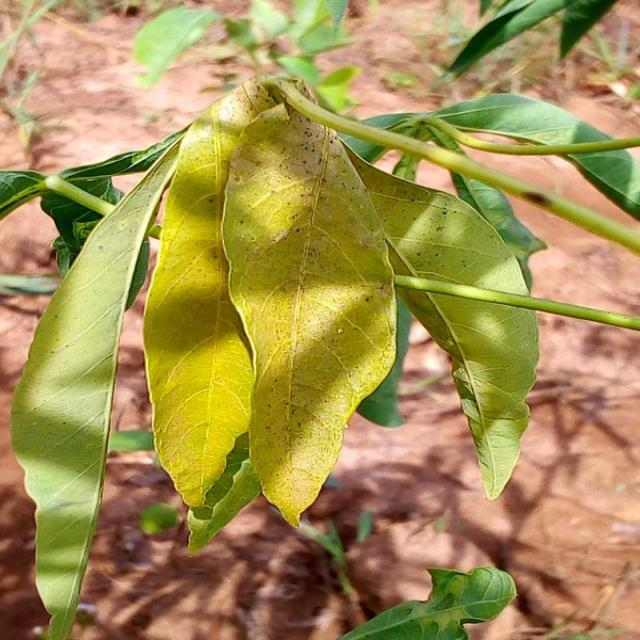cassava leaf: (9, 72, 546, 636), (8, 121, 190, 638), (218, 78, 398, 529)
